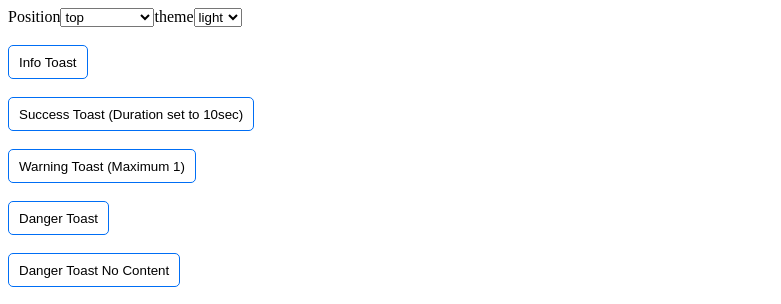
Toasts › Adds danger toast on click
The image size is (781, 304).
Step 1. Click the button "Danger Toast" → (58, 218), box [8,201,109,235]
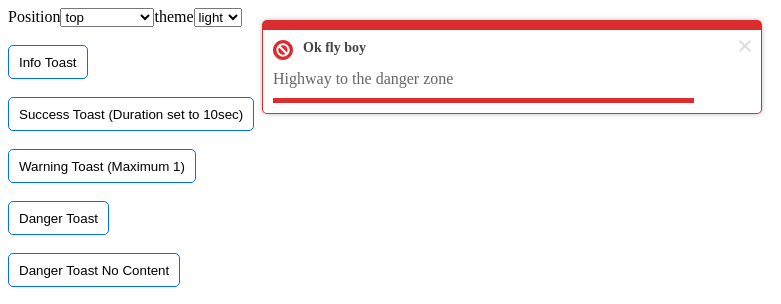
Now the text "Ok fly boy" is shown, box [303,40,366,60]
